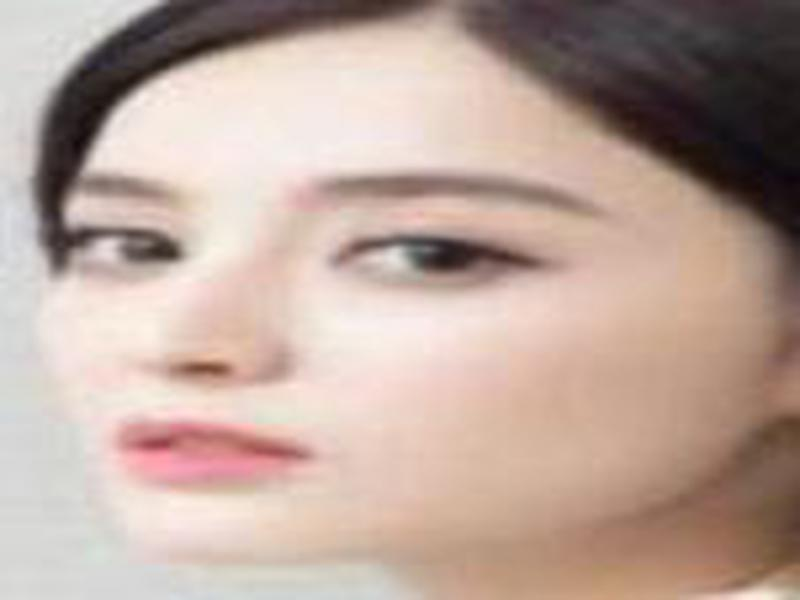without_mask: (42, 70, 721, 565)
